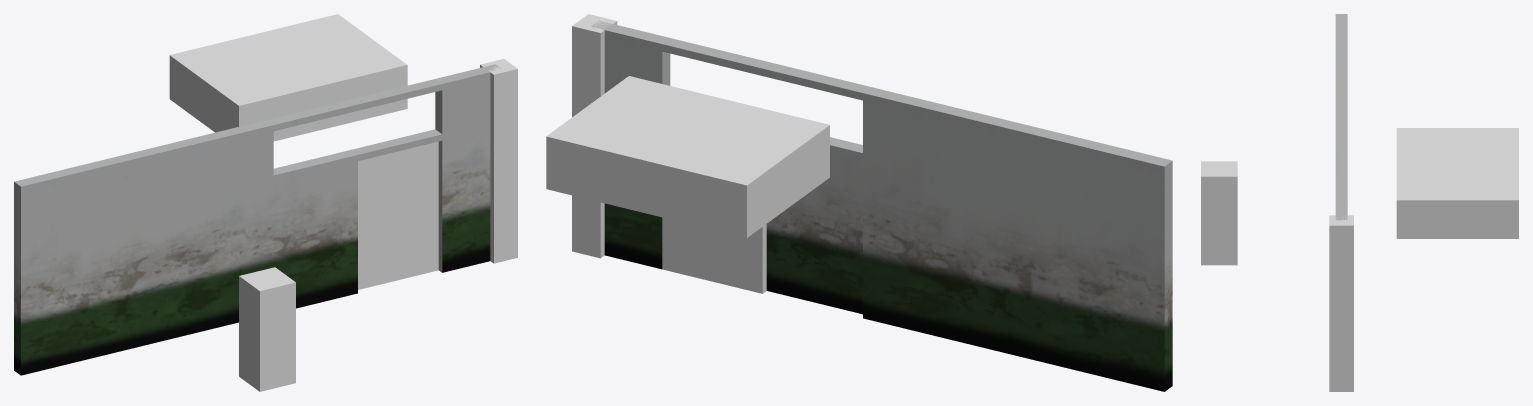
File: new_school.glb
The picture shows the model from 3 angles, left to right: view 1: azimuth 30°, elevation 25°; view 2: azimuth 150°, elevation 25°; view 3: azimuth 270°, elevation 25°; orthographic projection. The views are drawn at different scales.
Parts seen in each view (by area): view 1: 큐브.005, 큐브.009, 큐브.007, 큐브.001, 큐브.003; view 2: 큐브.005, 큐브.009, 큐브.007, 큐브.003; view 3: 큐브.009, 큐브.003, 큐브.001, 큐브.005.
Boxes of the visible parts, left/top/right/bottom form: 큐브.005: left=14, top=64, right=500, bottom=375; 큐브.009: left=169, top=14, right=407, bottom=141; 큐브.007: left=358, top=141, right=438, bottom=289; 큐브.001: left=239, top=267, right=295, bottom=391; 큐브.003: left=480, top=59, right=517, bottom=263; 큐브.005: left=591, top=20, right=1172, bottom=391; 큐브.009: left=546, top=76, right=829, bottom=237; 큐브.007: left=662, top=217, right=766, bottom=293; 큐브.003: left=572, top=14, right=617, bottom=258; 큐브.009: left=1396, top=128, right=1518, bottom=238; 큐브.003: left=1329, top=215, right=1353, bottom=391; 큐브.001: left=1201, top=161, right=1237, bottom=265; 큐브.005: left=1335, top=14, right=1347, bottom=220.
Bounding box in the file's own units: 8.2 × 3 × 5.2.
1 material, 1 textured.
